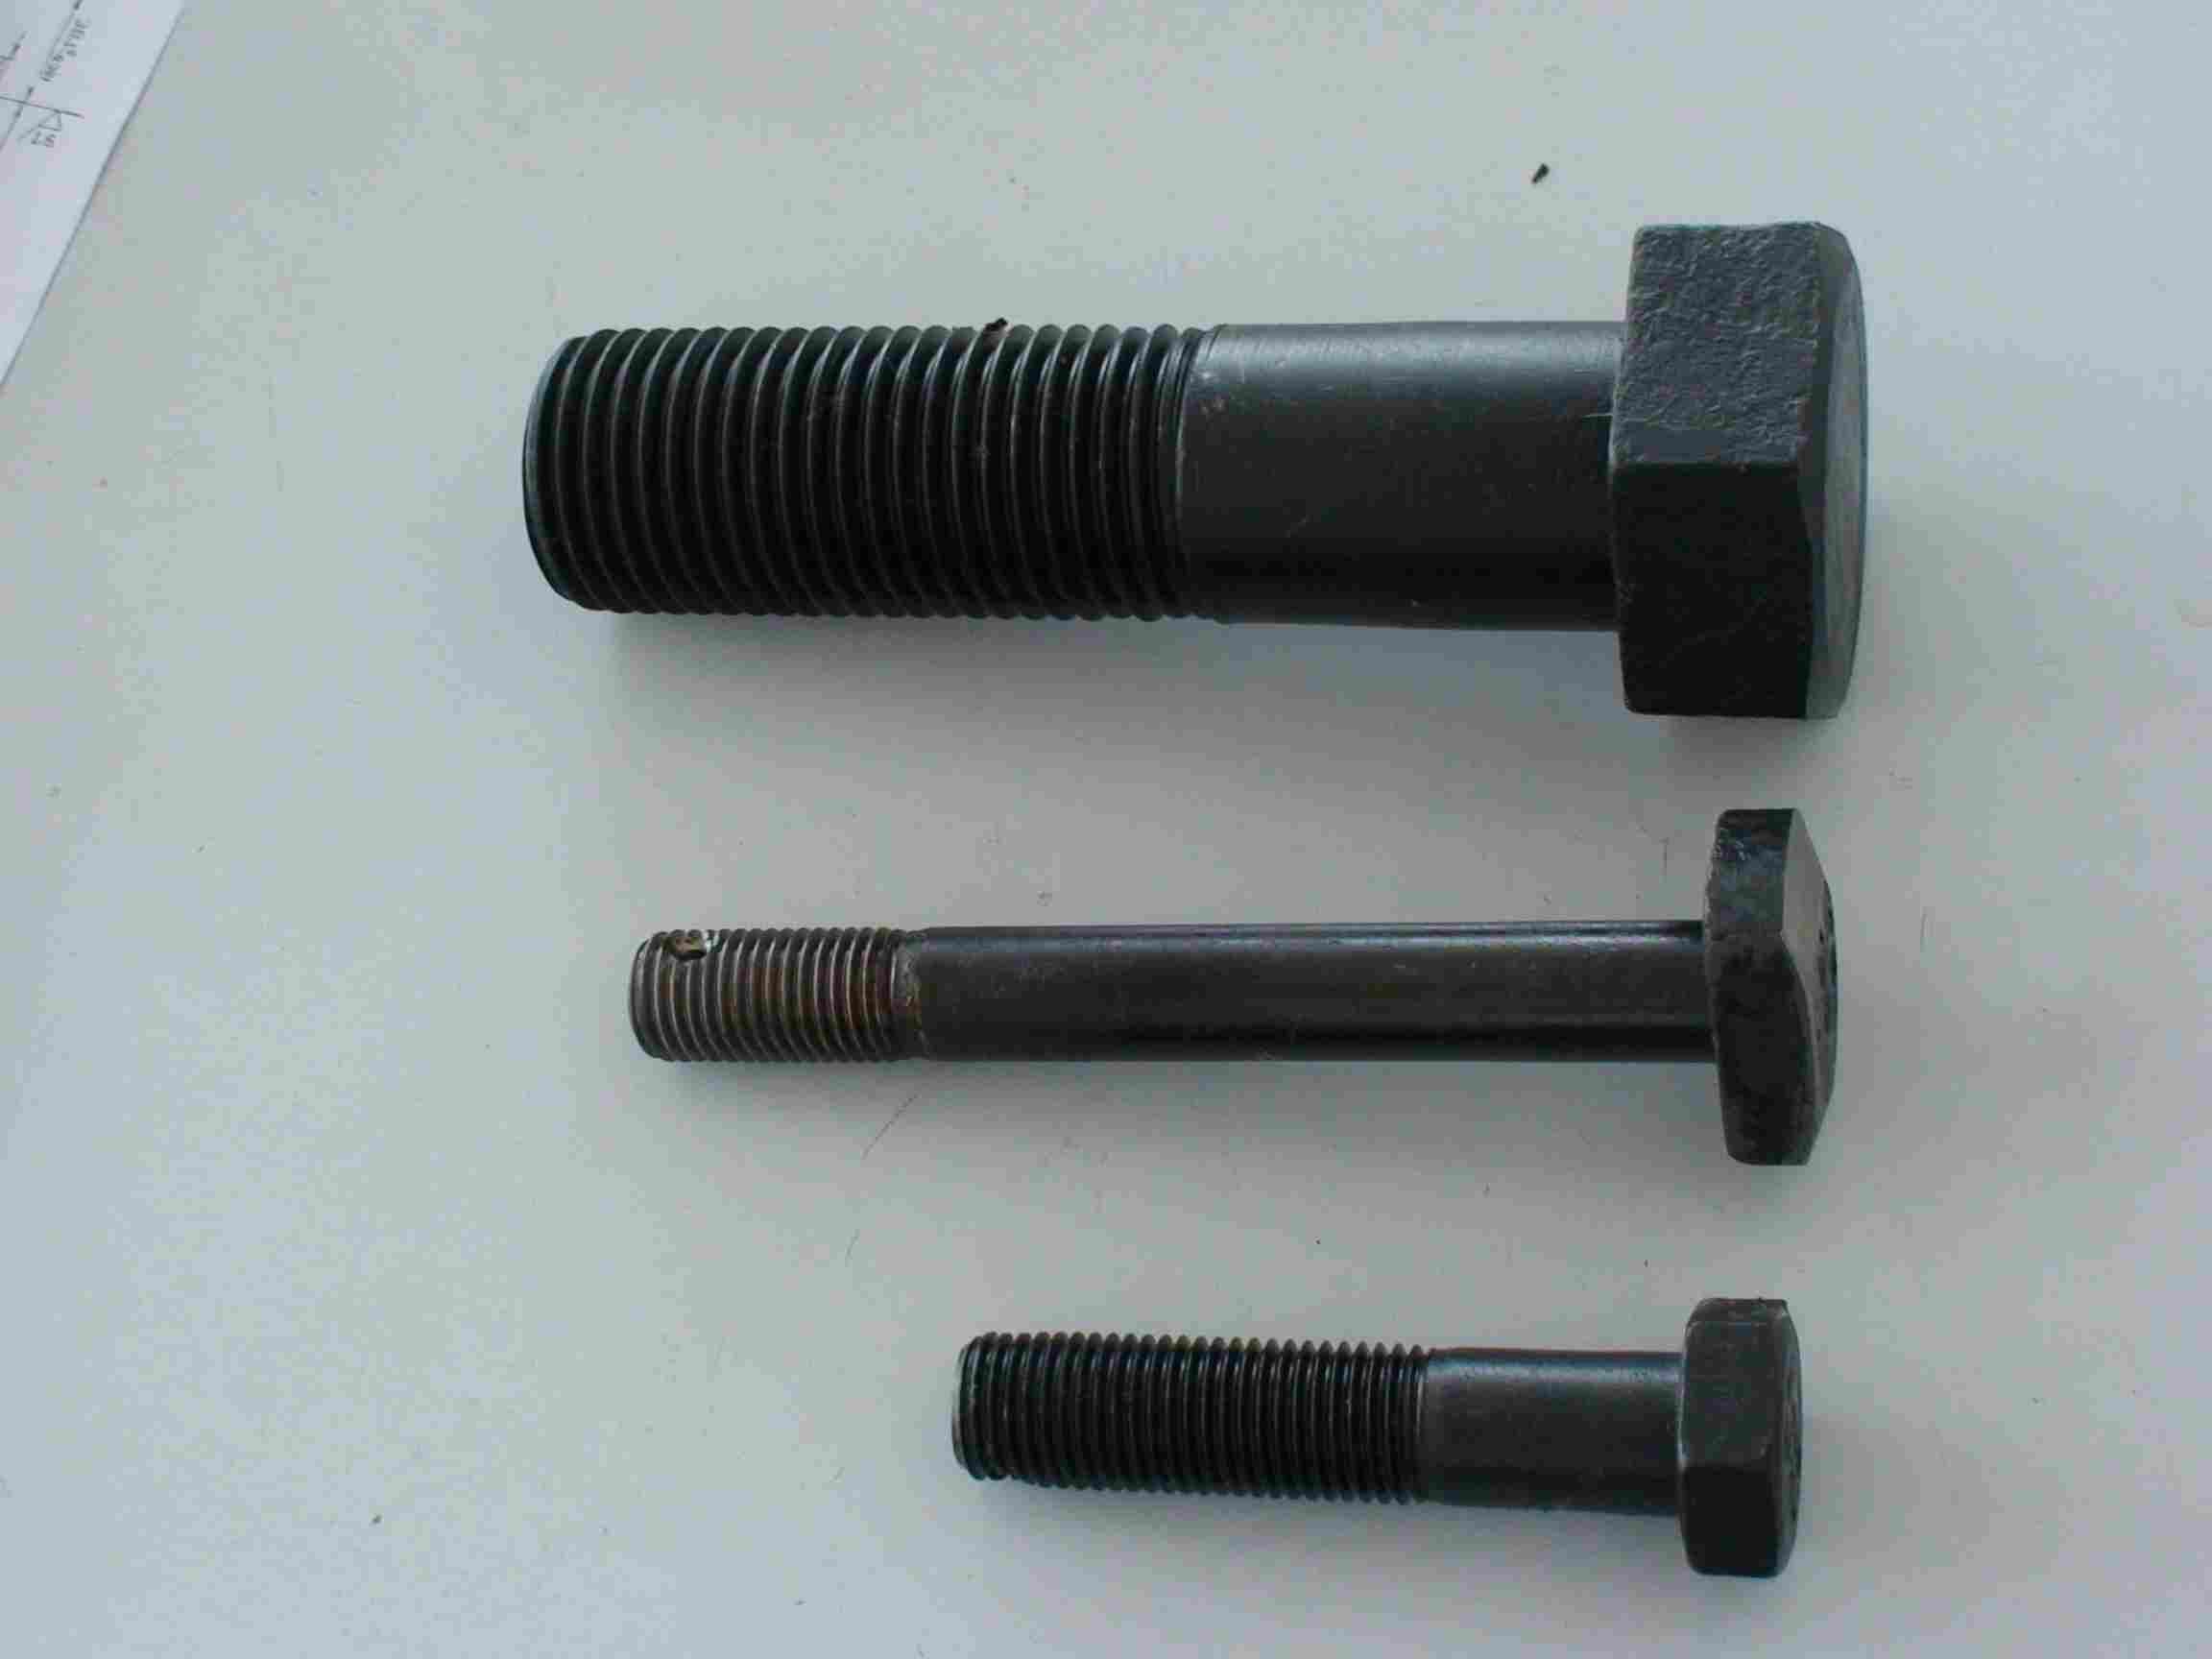screw: (523, 221, 1869, 728), (634, 807, 1843, 1171), (951, 1298, 1803, 1579)
